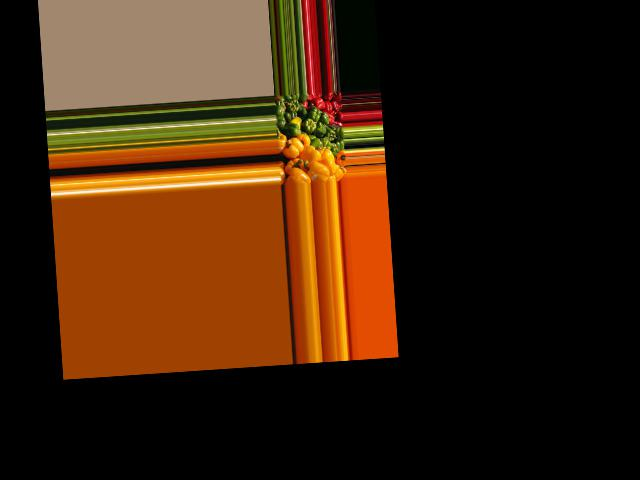bell_pepper: (273, 95, 286, 111)
